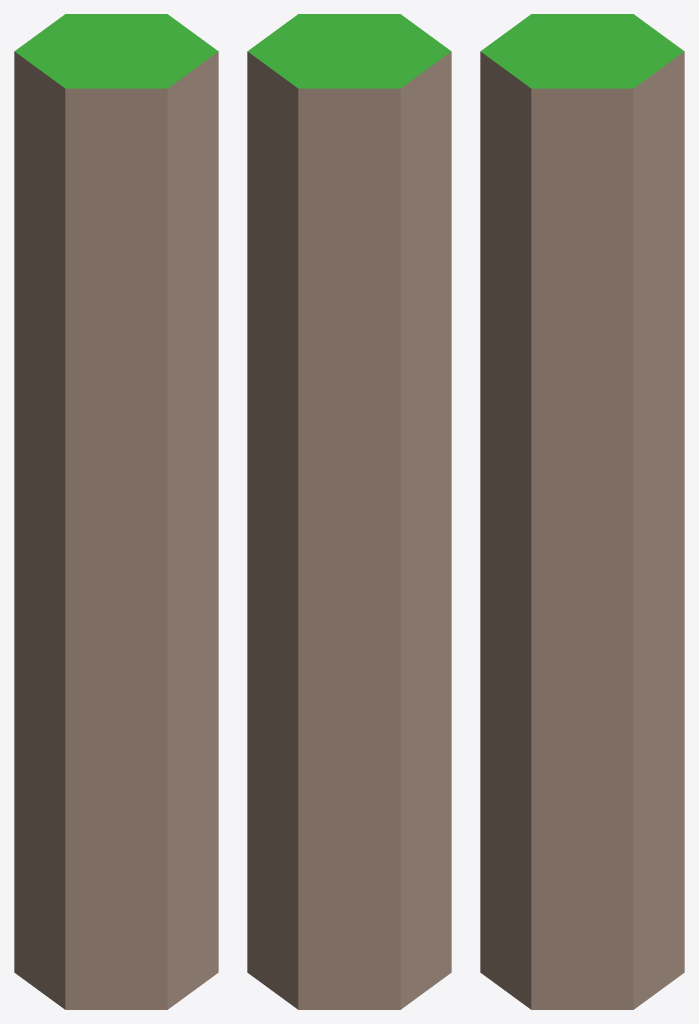
The model's file is tile_grass.fbx.
3 renders of one model, left to right at view 1: azimuth 30°, elevation 25°; view 2: azimuth 150°, elevation 25°; view 3: azimuth 270°, elevation 25°, orthographic.
Visible parts, largest first — view 1: tile, subgrass; view 2: tile, subgrass; view 3: tile, subgrass.
Part boxes in pixels (x1,y1,x2,y2): tile: (14,14,218,1009); subgrass: (15,14,217,88); tile: (247,14,451,1009); subgrass: (249,14,450,88); tile: (480,14,684,1009); subgrass: (481,14,683,88).
Size of the model in its own units: 346 by 1992 by 400.
